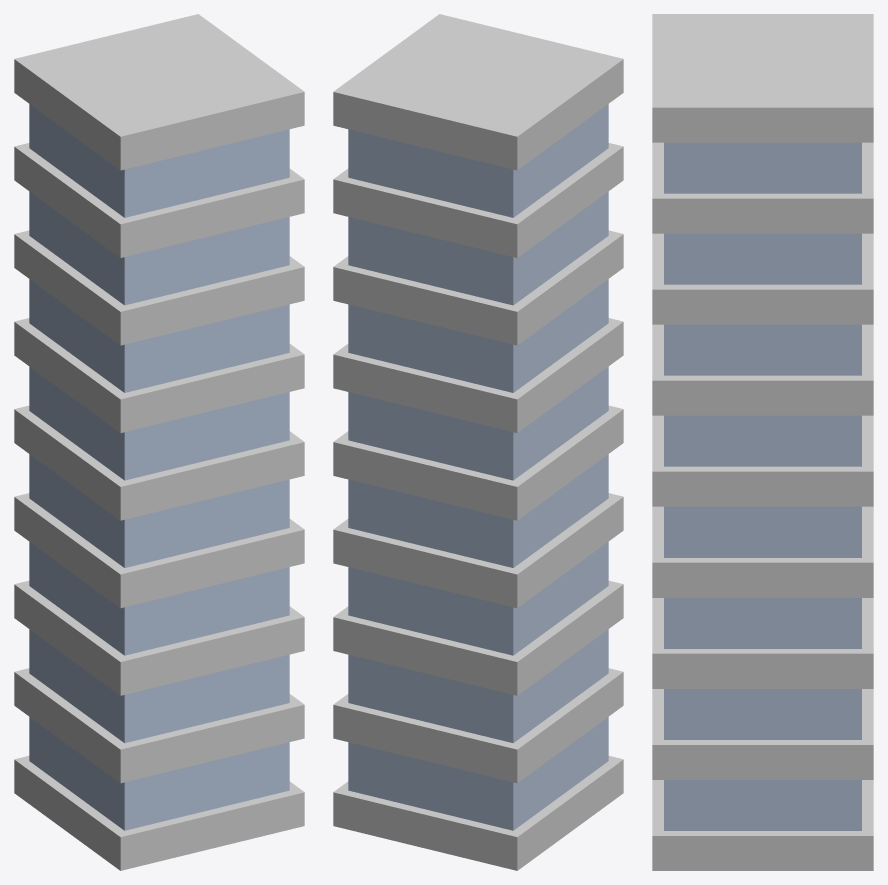
Rendered from Hochhaus_Cube_groß.fbx.
The picture shows the model from 3 angles, left to right: view 1: azimuth 30°, elevation 25°; view 2: azimuth 150°, elevation 25°; view 3: azimuth 270°, elevation 25°; orthographic projection. The views are drawn at different scales.
Visible parts, largest first — view 1: Hochhaus_Cube_groß; view 2: Hochhaus_Cube_groß; view 3: Hochhaus_Cube_groß.
Boxes of the visible parts, bbox=[...] form: Hochhaus_Cube_groß: bbox=[14, 14, 304, 870]; Hochhaus_Cube_groß: bbox=[333, 14, 623, 870]; Hochhaus_Cube_groß: bbox=[652, 14, 873, 870].
Bounding box in the file's own units: 989 × 3766 × 989.
